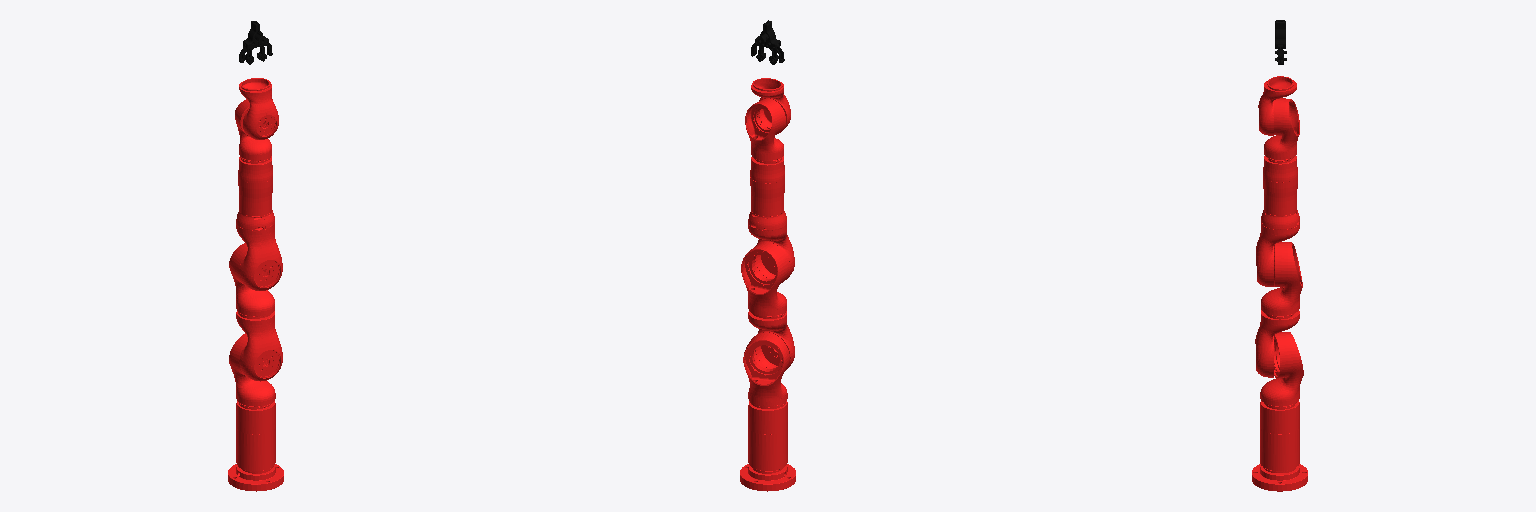
robot.urdf — mr5g:
<?xml version="1.0" encoding="utf-8"?>
<!-- This URDF was automatically created by SolidWorks to URDF Exporter! Originally created by [author] ([email redacted]) 
     Commit Version: 1.6.0-4-g7f85cfe  Build Version: 1.6.7995.38578
     For more information, please see http://wiki.ros.org/sw_urdf_exporter -->
<robot name="mr5g">
  <link name="world"/>
  <joint name="world_joint" type="fixed">
    <parent link="world"/>
    <child link="base_link"/>
    <origin rpy="0.0 0.0 0.0" xyz="0.0 0.0 0.0"/>
  </joint>
  <link name="base_link">
    <inertial>
      <origin xyz="0.000120857035020885 1.27625939194805E-05 0.0407725510365502" rpy="0 0 0" />
      <mass value="0.54020971947067" />
      <inertia ixx="0.000846965264841098" ixy="-1.0168447774119E-06" ixz="-9.0955653743172E-07" iyy="0.000847130138558194" iyz="-1.65960554550893E-07" izz="0.0012946816639509" />
    </inertial>
    <visual>
      <origin xyz="0 0 0" rpy="0 0 0" />
      <geometry>
        <mesh filename="package://mr5g_description/meshes/base.STL" />
      </geometry>
      <material name="">
        <color rgba="1 0.168627450980392 0.168627450980392 1" />
      </material>
    </visual>
    <collision>
      <origin xyz="0 0 0" rpy="0 0 0" />
      <geometry>
        <mesh filename="package://mr5g_description/meshes/base.STL" />
      </geometry>
    </collision>
  </link>
  <link name="mr5g_link_1">
    <inertial>
      <origin xyz="-0.0028824 0.010502 0.15415" rpy="0 0 0" />
      <mass value="0.96205" />
      <inertia ixx="0.0026857" ixy="-0.00014607" ixz="-1.4162E-05" iyy="0.0031817" iyz="5.1655E-05" izz="0.0013865" />
    </inertial>
    <visual>
      <origin xyz="0 0 0" rpy="0 0 0" />
      <geometry>
        <mesh filename="package://mr5g_description/meshes/axis_1.STL" />
      </geometry>
      <material name="">
        <color rgba="1 0.168627450980392 0.168627450980392 1" />
      </material>
    </visual>
    <collision>
      <origin xyz="0 0 0" rpy="0 0 0" />
      <geometry>
        <mesh filename="package://mr5g_description/meshes/axis_1.STL" />
      </geometry>
    </collision>
  </link>
  <joint name="mr5g_joint_1" type="revolute">
    <origin xyz="0 0 0.15023" rpy="0 0 0" />
    <parent link="base_link" />
    <child link="mr5g_link_1" />
    <axis xyz="0 0 -1" />
    <limit effort="40.0" lower="-3.141592653589793" upper="3.141592653589793" velocity="3.15"/>
  </joint>
  <link name="mr5g_link_2">
    <inertial>
      <origin xyz="-1.6528E-05 -0.18417 0.0039221" rpy="0 0 0" />
      <mass value="1.0951" />
      <inertia ixx="0.0031473" ixy="7.3236E-08" ixz="9.9783E-08" iyy="0.001569" iyz="9.2119E-05" izz="0.003777" />
    </inertial>
    <visual>
      <origin xyz="0 0 0" rpy="0 0 0" />
      <geometry>
        <mesh filename="package://mr5g_description/meshes/axis_2.STL" />
      </geometry>
      <material name="">
        <color rgba="1 0.16863 0.16863 1" />
      </material>
    </visual>
    <collision>
      <origin xyz="0 0 0" rpy="0 0 0" />
      <geometry>
        <mesh filename="package://mr5g_description/meshes/axis_2.STL" />
      </geometry>
    </collision>
  </link>
  <joint name="mr5g_joint_2" type="revolute">
    <!-- <origin xyz="0 0 0.2002" rpy="-1.5708 0 0.26637" /> -->
    <origin xyz="0 0 0.2002" rpy="-1.5708 0 0" />
    <parent link="mr5g_link_1" />
    <child link="mr5g_link_2" />
    <axis xyz="0 0 -1" />
    <limit effort="40.0" lower="-2.15" upper="2.15" velocity="3"/>
  </joint>
  <link name="mr5g_link_3">
    <inertial>
      <origin xyz="-4.1879E-06 -0.15299 -0.0082086" rpy="0 0 0" />
      <mass value="0.72559" />
      <inertia ixx="0.0013472" ixy="2.5553E-09" ixz="-3.1858E-07" iyy="0.0010649" iyz="0.00014569" izz="0.0013311" />
    </inertial>
    <visual>
      <origin xyz="0 0 0" rpy="0 0 0" />
      <geometry>
        <mesh filename="package://mr5g_description/meshes/axis_3.STL" />
      </geometry>
      <material name="">
        <color rgba="1 0.16863 0.16863 1" />
      </material>
    </visual>
    <collision>
      <origin xyz="0 0 0" rpy="0 0 0" />
      <geometry>
        <mesh filename="package://mr5g_description/meshes/axis_3.STL" />
      </geometry>
    </collision>
  </link>
  <joint name="mr5g_joint_3" type="revolute">
    <origin xyz="0 -0.2542 0" rpy="0 0 0" />
    <parent link="mr5g_link_2" />
    <child link="mr5g_link_3" />
    <axis xyz="0 0 -1" />
    <limit effort="25.0" lower="-2.15" upper="2.15" velocity="3"/>
  </joint>
  <link name="mr5g_link_4">
    <inertial>
      <origin xyz="0.00096165 0.0053198 0.11439" rpy="0 0 0" />
      <mass value="0.66116" />
      <inertia ixx="0.0012851" ixy="4.2167E-05" ixz="2.8238E-06" iyy="0.0015089" iyz="1.4011E-05" izz="0.00075918" />
    </inertial>
    <visual>
      <origin xyz="0 0 0" rpy="0 0 0" />
      <geometry>
        <mesh filename="package://mr5g_description/meshes/axis_4.STL" />
      </geometry>
      <material name="">
        <color rgba="1 0.168627450980392 0.168627450980392 1" />
      </material>
    </visual>
    <collision>
      <origin xyz="0 0 0" rpy="0 0 0" />
      <geometry>
        <mesh filename="package://mr5g_description/meshes/axis_4.STL" />
      </geometry>
    </collision>
  </link>
  <joint name="mr5g_joint_4" type="revolute">
    <origin xyz="0 -0.25172 0.0012681" rpy="1.5708 0 0" />
    <parent link="mr5g_link_3" />
    <child link="mr5g_link_4" />
    <axis xyz="0 0 1" />
    <limit effort="10.0" lower="-3.141592653589793" upper="3.141592653589793" velocity="3"/>
  </joint>
  <link name="mr5g_link_5">
    <inertial>
      <origin xyz="4.9788044054048E-06 -0.0361608588367326 -0.0279972199896629" rpy="0 0 0" />
      <mass value="0.327558781213899" />
      <inertia ixx="0.000662565752292812" ixy="-3.03329073594475E-09" ixz="-1.99440015526418E-08" iyy="0.000387603430781861" iyz="0.00017563188243387" izz="0.00068888720705538" />
    </inertial>
    <visual>
      <origin xyz="0 0 0" rpy="0 0 0" />
      <geometry>
        <mesh filename="package://mr5g_description/meshes/axis_5.STL" />
      </geometry>
      <material name="">
        <color rgba="1 0.168627450980392 0.168627450980392 1" />
      </material>
    </visual>
    <collision>
      <origin xyz="0 0 0" rpy="0 0 0" />
      <geometry>
        <mesh filename="package://mr5g_description/meshes/axis_5.STL" />
      </geometry>
    </collision>
  </link>
  <joint name="mr5g_joint_5" type="revolute">
    <!-- <origin xyz="0 0 0.1641" rpy="-1.5708 0 -0.18001" /> -->
    <origin xyz="0 0 0.1641" rpy="-1.5708 0 0" />
    <parent link="mr5g_link_4" />
    <child link="mr5g_link_5" />
    <axis xyz="0 0 -1" />
    <limit effort="20.0" lower="-2.12" upper="2.12" velocity="3"/>
  </joint>

  <joint name="g6_joint_0" type="fixed">
    <origin rpy="1.5708 0 0" xyz="0 -0.096 0"/>
    <parent link="mr5g_link_5"/>
    <child link="g6_palm_link"/>
  </joint>
  <link name="g6_palm_link">
    <visual>
      <origin rpy="0 0 0" xyz="0 0 0"/>
      <geometry>
        <mesh filename="package://mr_description/meshes/g_palm_link.STL"/>
      </geometry>
      <material name="">
        <color rgba="0.1 0.1 0.1 1"/>
      </material>
    </visual>
    <collision>
      <origin rpy="0 0 0" xyz="0 0 0.028"/>
      <geometry>
        <!--        <mesh  filename="package://mr_description/meshes/g_palm_link.STL" />-->
        <cylinder length="0.056" radius="0.0425"/>
      </geometry>
    </collision>
    <inertial>
      <origin rpy="0 0 0" xyz="0.00425087794620391 -0.000341076549934847 0.0434713557042779"/>
      <mass value="0.566653469628951"/>
      <inertia ixx="0.000498497223548746" ixy="5.36329649188159E-07" ixz="-4.07818737202901E-05" iyy="0.000730511793998383" iyz="-6.03266058697901E-06" izz="0.000502182372067087"/>
    </inertial>
  </link>
  <joint name="g6_Joint" type="prismatic">
    <origin rpy="0 0 0" xyz="0 0 0"/>
    <parent link="g6_palm_link"/>
    <child link="g6_finger_link"/>
    <axis xyz="-1 0 0"/>
    <limit effort="1" lower="0" upper="0.06" velocity="0.06"/>
    <!--    <calibration   rising="1"   falling="1" />-->
    <!--    <dynamics    damping="1"    friction="1" />-->
    <!--    <safety_controller soft_upper="0.06" soft_lower="0" k_position="1" k_velocity="1" />-->
  </joint>
  <joint name="g6_Joint1" type="prismatic">
    <origin rpy="0 0 0" xyz="0 0 0"/>
    <parent link="g6_palm_link"/>
    <child link="g6_finger_link1"/>
    <axis xyz="1 0 0"/>
    <limit effort="1" lower="0" upper="0.06" velocity="0.06"/>
    <!--    <calibration  rising="1" />-->
    <!--    <dynamics  damping="1"  friction="1" />-->
    <!--    <safety_controller soft_upper="0.06" soft_lower="0" k_position="1" k_velocity="1" />-->
  </joint>
  <link name="g6_finger_link">
    <visual>
      <origin rpy="0 0 0" xyz="0 0 0"/>
      <geometry>
        <mesh filename="package://mr_description/meshes/g_finger_link.STL"/>
      </geometry>
      <material name="">
        <color rgba="0.1 0.1 0.1 1"/>
      </material>
    </visual>
    <collision>
      <origin rpy="0 0 0" xyz="0 0 0"/>
      <geometry>
        <mesh filename="package://mr_description/meshes/g_finger_link.STL"/>
      </geometry>
    </collision>
    <inertial>
      <origin rpy="0 0 0" xyz="-0.0142537929479308 0.000230061402547915 0.123240994639791"/>
      <mass value="0.0587979869361216"/>
      <inertia ixx="4.06347072846223E-05" ixy="2.52194515964668E-08" ixz="9.16297919180235E-06" iyy="4.29642140065611E-05" iyz="3.2622913893542E-08" izz="9.72727638920999E-06"/>
    </inertial>
  </link>
  <link name="g6_finger_link1">
    <visual>
      <origin rpy="0 0 0" xyz="0 0 0"/>
      <geometry>
        <mesh filename="package://mr_description/meshes/g_finger_link1.STL"/>
      </geometry>
      <material name="">
        <color rgba="0.1 0.1 0.1 1"/>
      </material>
    </visual>
    <collision>
      <origin rpy="0 0 0" xyz="0 0 0"/>
      <geometry>
        <mesh filename="package://mr_description/meshes/g_finger_link1.STL"/>
      </geometry>
    </collision>
    <inertial>
      <origin rpy="0 0 0" xyz="0.0142537929479934 3.43816122645394E-05 0.123240994639808"/>
      <mass value="0.0587979869361215"/>
      <inertia ixx="4.06348713317454E-05" ixy="4.84294028883443E-09" ixz="-9.16297919179846E-06" iyy="4.29642140065595E-05" iyz="-7.56625401696782E-08" izz="9.72744043633773E-06"/>
    </inertial>
  </link>
  <joint name="tcp_fixed_joint" type="fixed">
    <origin rpy="0 0 0" xyz="0 0 0.16"/>
    <parent link="g6_palm_link"/>
    <child link="tcp_link"/>
  </joint>
  <link name="tcp_link"/>
</robot>

--- What the picture shows (computed from the rendered views, not written in the file) ---
3 views of the same robot in one strip: view 1: azimuth 30°, elevation 25°; view 2: azimuth 150°, elevation 25°; view 3: azimuth 270°, elevation 25° (orthographic).
Model mr5g with 11 links and 10 joints (5 revolute, 2 prismatic, 3 fixed), rooted at world, posed every joint at zero.
Links seen in each view (by area): view 1: mr5g_link_3, mr5g_link_2, base_link, mr5g_link_1, mr5g_link_4, mr5g_link_5; view 2: mr5g_link_2, mr5g_link_1, mr5g_link_3, base_link, mr5g_link_4, mr5g_link_5; view 3: mr5g_link_2, mr5g_link_1, mr5g_link_3, base_link, mr5g_link_4, mr5g_link_5.
Link boxes in pixels (box(x1,y1,x2,y2)): mr5g_link_3: box(236, 177, 282, 290); mr5g_link_2: box(229, 243, 282, 381); base_link: box(228, 427, 283, 491); mr5g_link_1: box(229, 333, 275, 434); mr5g_link_4: box(235, 99, 272, 182); mr5g_link_5: box(239, 78, 278, 139); mr5g_link_2: box(741, 242, 794, 370); mr5g_link_1: box(743, 332, 789, 434); mr5g_link_3: box(748, 177, 794, 279); base_link: box(740, 427, 795, 491); mr5g_link_4: box(745, 98, 785, 183); mr5g_link_5: box(751, 78, 790, 128); mr5g_link_2: box(1255, 242, 1302, 377); mr5g_link_1: box(1260, 332, 1303, 433); mr5g_link_3: box(1256, 177, 1299, 286); base_link: box(1252, 427, 1307, 491); mr5g_link_4: box(1263, 98, 1299, 182); mr5g_link_5: box(1258, 76, 1296, 135).
Size in the robot's own frame: 0.1445 by 0.145 by 1.29 metres.
Meshes: 9 distinct files referenced, 8 mesh visuals loaded (8 binary STL); not drawn: 1 (reference not matched to a file when rendering).